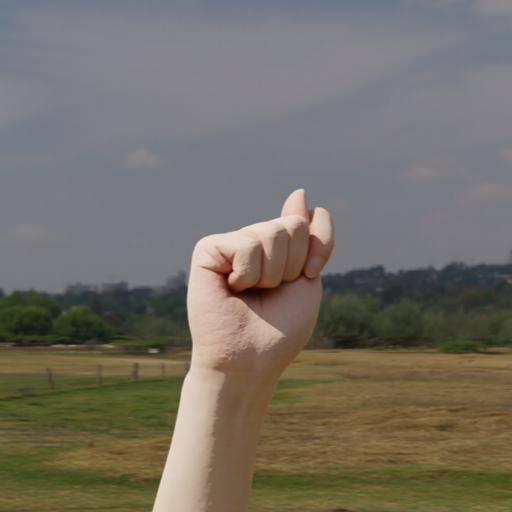T: (169, 180, 366, 398)
